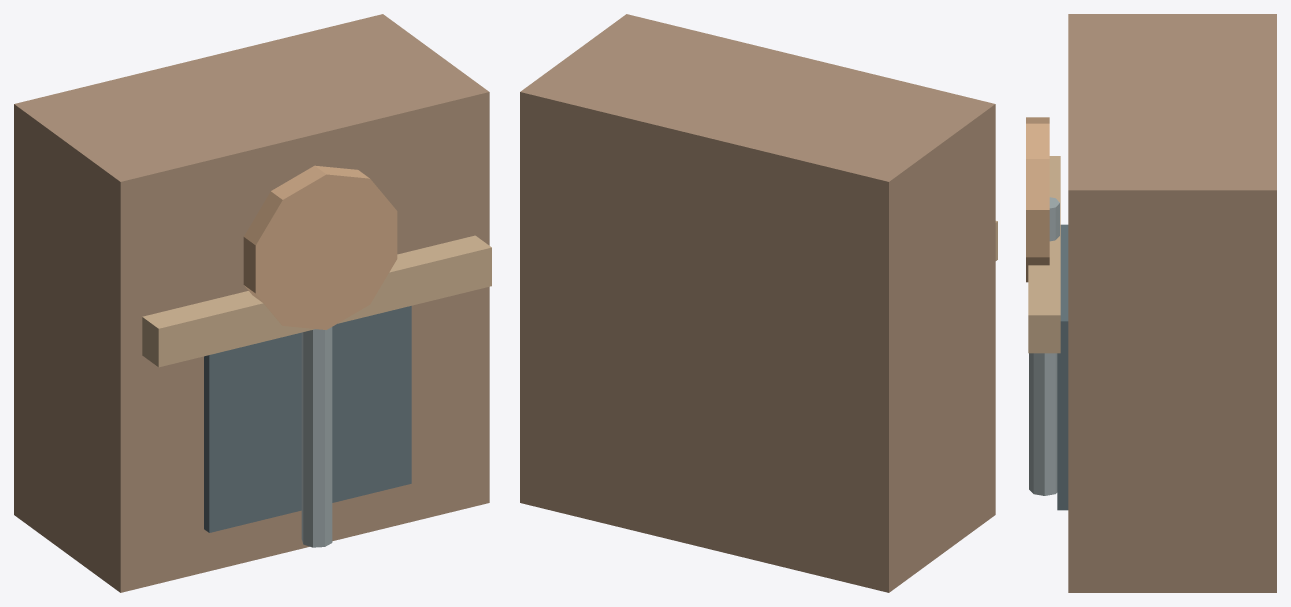
The model's file is apple_press_near-D1Bkq7hH.glb.
3 renders of one model, left to right at view 1: azimuth 30°, elevation 25°; view 2: azimuth 150°, elevation 25°; view 3: azimuth 270°, elevation 25°, orthographic. The views are drawn at different scales.
Parts seen in each view (by area): view 1: apple_press_near; view 2: apple_press_near; view 3: apple_press_near.
Part boxes in pixels (x1,y1,x2,y2): apple_press_near: (14, 14, 491, 592); apple_press_near: (520, 14, 997, 592); apple_press_near: (1026, 14, 1276, 592).
Bounding box in the file's own units: 6.2 × 6.6 × 3.72.
